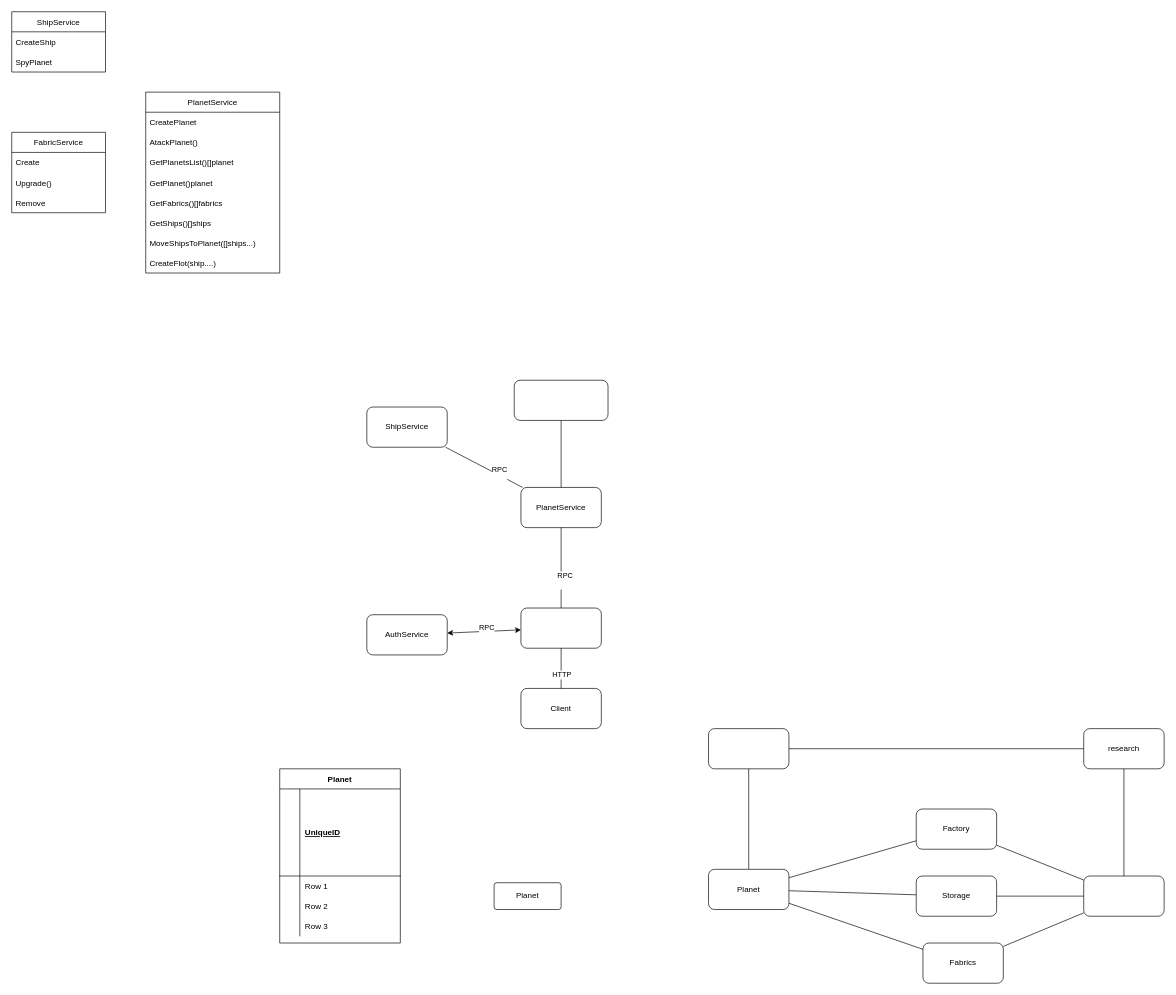
The diagram is 1176 pixels wide and 995 high, and some of its shapes have lost their labels. Each missing label, with the centre of its shape:
Api: the point at 560,627
BuilderService: the point at 561,400
requirements: the point at 1123,895
User: the point at 748,748
